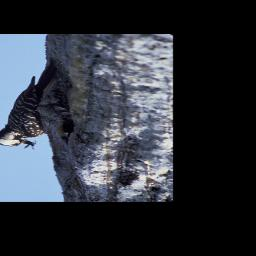Woodpecker: (0, 57, 74, 151)
